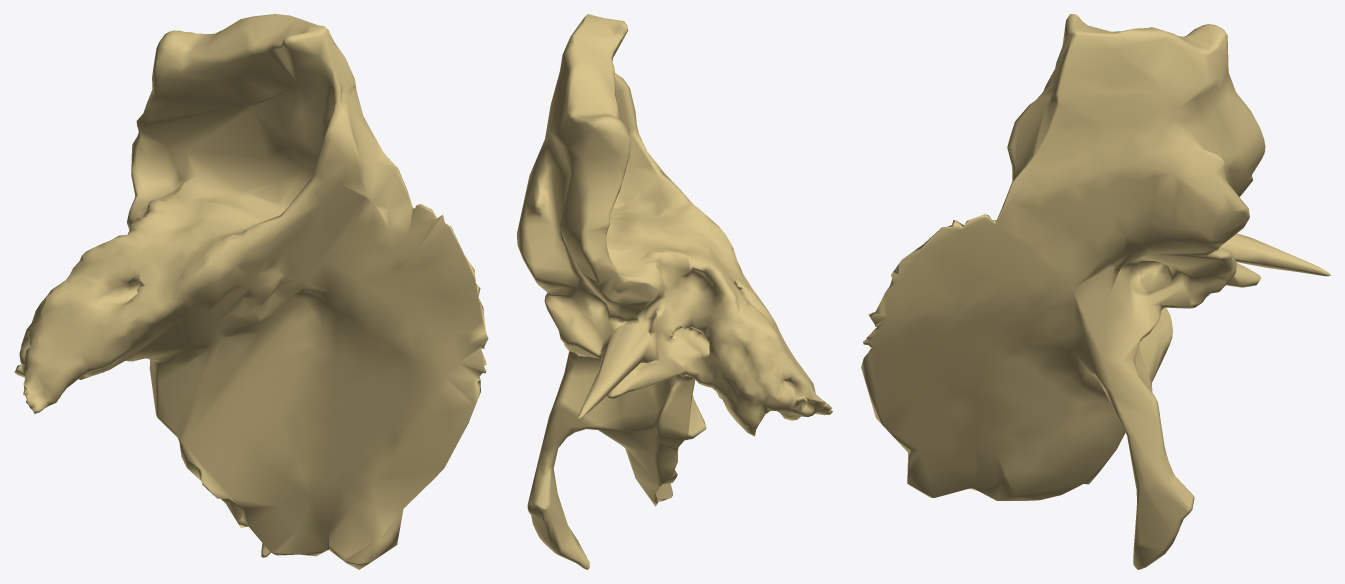
The picture shows the model from 3 angles, left to right: view 1: azimuth 30°, elevation 25°; view 2: azimuth 150°, elevation 25°; view 3: azimuth 270°, elevation 25°; orthographic projection. The views are drawn at different scales.
Parts seen in each view (by area): view 1: 左侧颞骨; view 2: 左侧颞骨; view 3: 左侧颞骨.
Part boxes in pixels (<box>): 左侧颞骨: <box>14,14,488,569</box>; 左侧颞骨: <box>517,14,832,569</box>; 左侧颞骨: <box>861,14,1330,569</box>.
Bounding box in the file's own units: 0.0925 × 0.142 × 0.1097.
